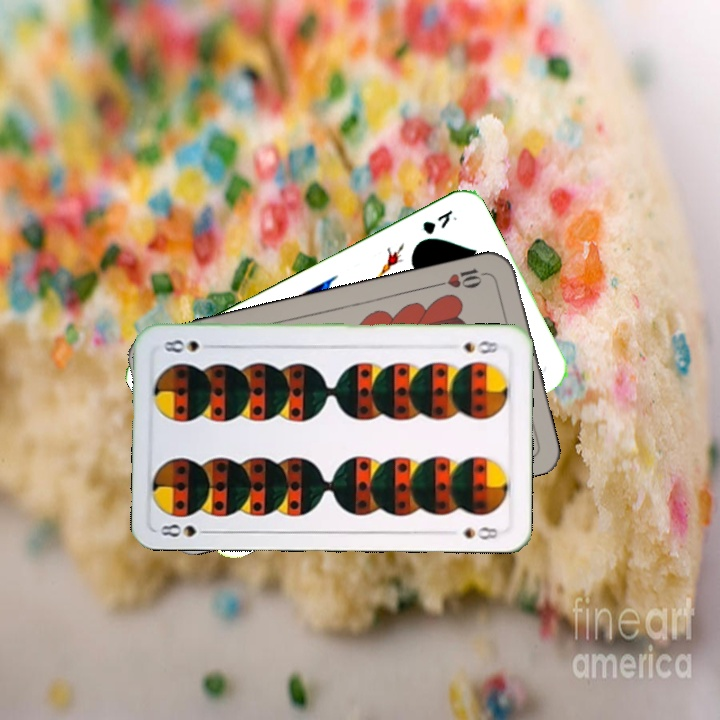GK: (418, 206, 455, 237)
H10: (433, 264, 492, 291)
S8: (156, 520, 215, 539), (459, 337, 502, 357)
